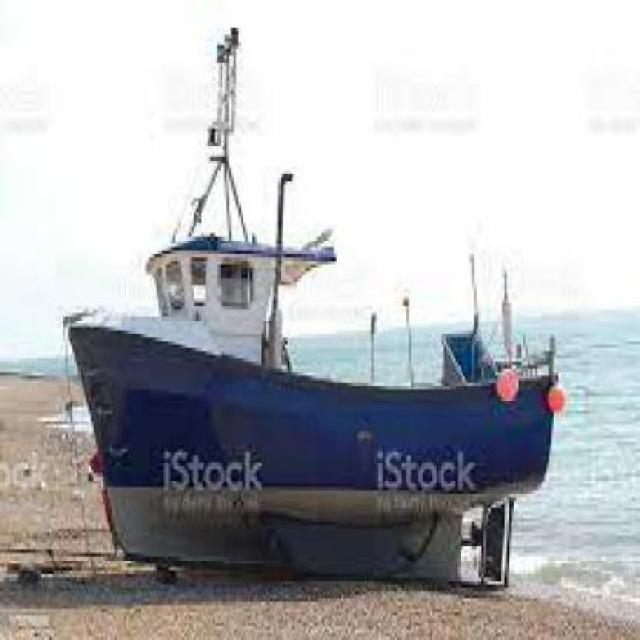fish-b: (53, 19, 576, 606)
